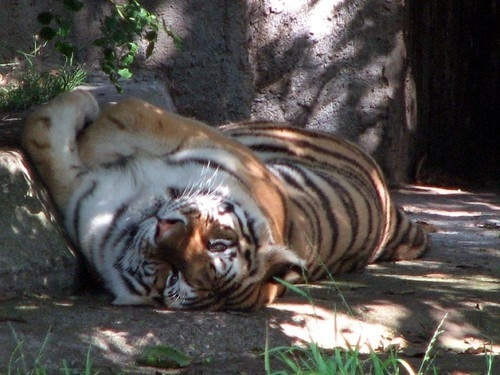tigre: (20, 88, 433, 314)
